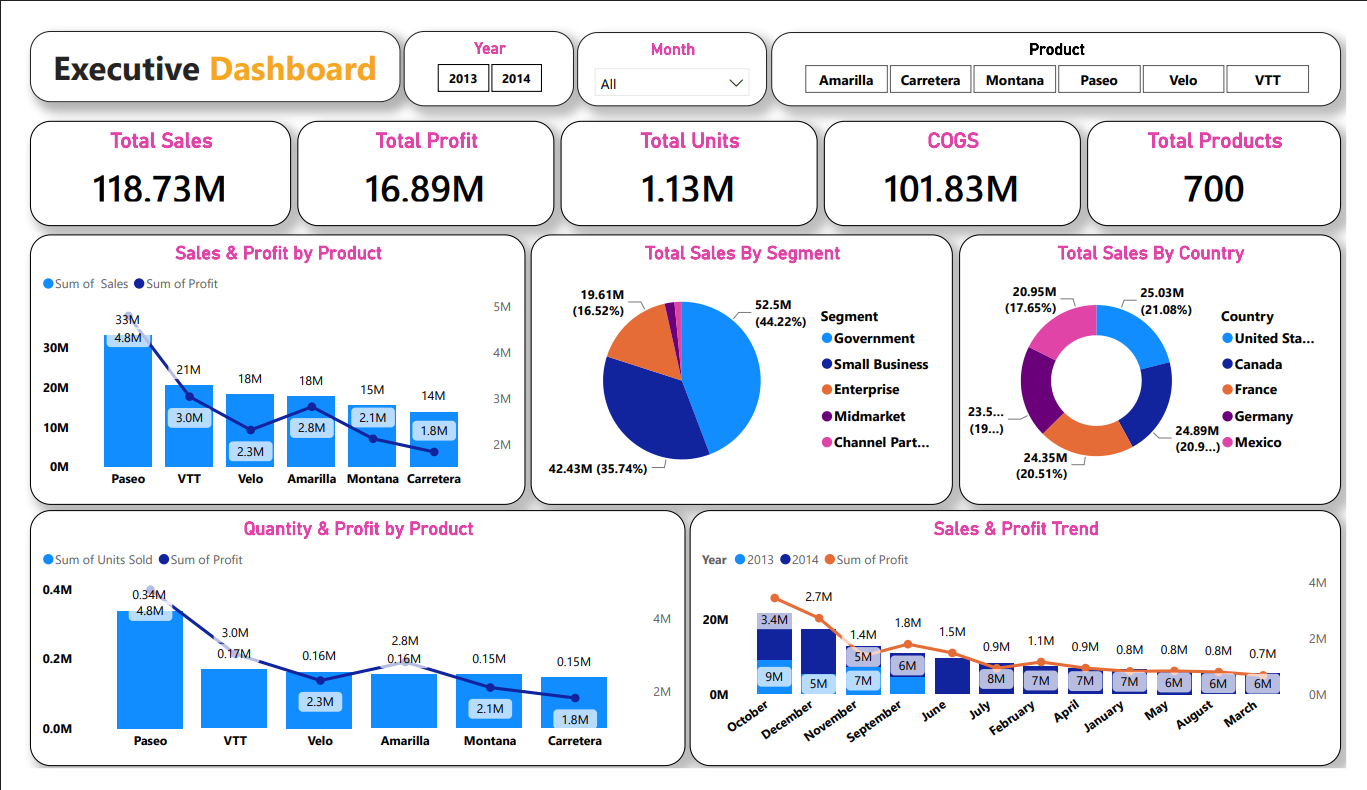

Layout of this report page (visuals, bound fields, positions):
{"tool":"powerbi","page":{"name":"Page 1","canvas":[1280,720],"ordinal":0},"visuals":[{"type":"textbox","box":[5,6.2,358.8,68.8],"z":0},{"type":"slicer","title":"Year","fields":{"Values":["financials.Year"]},"box":[367.1,6.5,164.7,72.4],"z":1000},{"type":"slicer","title":"Month","fields":{"Values":["financials.Month Name"]},"box":[535.3,7.1,184.1,72.4],"z":2000},{"type":"slicer","title":"Product","fields":{"Values":["financials.Product"]},"box":[722.9,7.1,552.4,72.4],"z":3000},{"type":"cardVisual","title":"Total Sales","fields":{"Data":["Sum(financials. Sales)"]},"box":[5,92.5,252.5,102.5],"z":4000},{"type":"cardVisual","title":"Total Profit","fields":{"Data":["Sum(financials.Profit)"]},"box":[263.8,92.5,248.8,102.5],"z":5000},{"type":"cardVisual","title":"Total Units","fields":{"Data":["Sum(financials.Units Sold)"]},"box":[518.8,92.5,248.8,102.5],"z":6000},{"type":"cardVisual","title":"COGS","fields":{"Data":["Sum(financials.COGS)"]},"box":[773.8,92.5,248.8,102.5],"z":7000},{"type":"cardVisual","title":"Total Products","fields":{"Data":["CountNonNull(financials.Product)"]},"box":[1028.8,92.5,246.2,102.5],"z":8000},{"type":"lineClusteredColumnComboChart","title":"Sales & Profit by Product","fields":{"Category":["financials.Product"],"Y":["Sum(financials. Sales)"],"Y2":["Sum(financials.Profit)"]},"box":[5,202.5,480,262.5],"z":9000},{"type":"pieChart","title":"Total Sales By Segment","fields":{"Y":["Sum(financials. Sales)"],"Category":["financials.Segment"]},"box":[490,202.5,408.8,262.5],"z":10000},{"type":"donutChart","title":"Total Sales By Country","fields":{"Y":["Sum(financials. Sales)"],"Category":["financials.Country"]},"box":[905,202.5,370,262.5],"z":11000},{"type":"lineClusteredColumnComboChart","title":"Quantity & Profit by Product","fields":{"Category":["financials.Product"],"Y":["Sum(financials.Units Sold)"],"Y2":["Sum(financials.Profit)"]},"box":[5,470,635,247.5],"z":12000},{"type":"lineStackedColumnComboChart","title":"Sales & Profit Trend","fields":{"Category":["financials.Month Name"],"Y":["Sum(financials. Sales)"],"Y2":["Sum(financials.Profit)"],"Series":["financials.Year"]},"box":[643.8,470,631.2,247.5],"z":13000}]}

Visuals, with their boxes in screenshot pixels (x1, y1, x2, y2), scaled from the page's 1280x720 canvas onto the 1367x790 screenshot:
textbox: x1=5, y1=7, x2=389, y2=82
"Year" slicer: x1=392, y1=7, x2=568, y2=87
"Month" slicer: x1=572, y1=8, x2=768, y2=87
"Product" slicer: x1=772, y1=8, x2=1362, y2=87
"Total Sales" cardVisual: x1=5, y1=101, x2=275, y2=214
"Total Profit" cardVisual: x1=282, y1=101, x2=547, y2=214
"Total Units" cardVisual: x1=554, y1=101, x2=820, y2=214
"COGS" cardVisual: x1=826, y1=101, x2=1092, y2=214
"Total Products" cardVisual: x1=1099, y1=101, x2=1362, y2=214
"Sales & Profit by Product" lineClusteredColumnComboChart: x1=5, y1=222, x2=518, y2=510
"Total Sales By Segment" pieChart: x1=523, y1=222, x2=960, y2=510
"Total Sales By Country" donutChart: x1=967, y1=222, x2=1362, y2=510
"Quantity & Profit by Product" lineClusteredColumnComboChart: x1=5, y1=516, x2=684, y2=787
"Sales & Profit Trend" lineStackedColumnComboChart: x1=688, y1=516, x2=1362, y2=787
